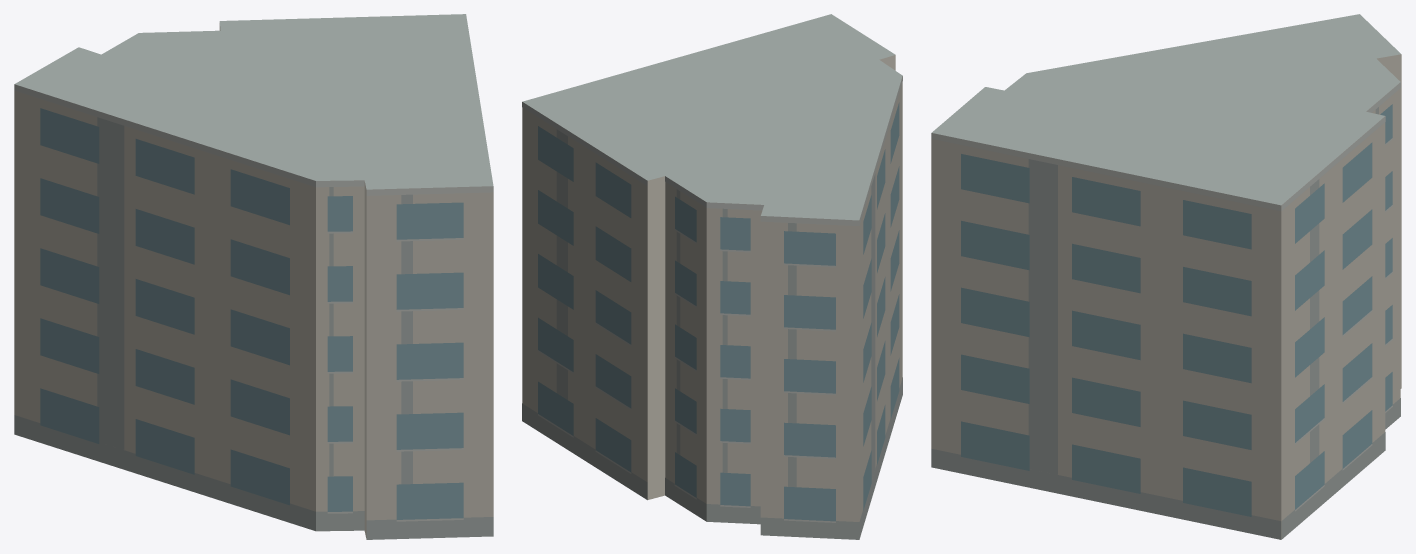
Rendered from survey-upis-32955757.glb.
3 views of the same model, side by side, from view 1: azimuth 30°, elevation 25°; view 2: azimuth 150°, elevation 25°; view 3: azimuth 270°, elevation 25° (orthographic). The views are drawn at different scales.
Visible parts, largest first — view 1: survey-upis-32955757.tmp; view 2: survey-upis-32955757.tmp; view 3: survey-upis-32955757.tmp.
Part boxes in pixels (x1,y1,x2,y2): survey-upis-32955757.tmp: (14, 14, 493, 539); survey-upis-32955757.tmp: (522, 14, 902, 539); survey-upis-32955757.tmp: (931, 14, 1401, 539).
Size of the model in its own units: 16.7 by 13.6 by 17.33.
